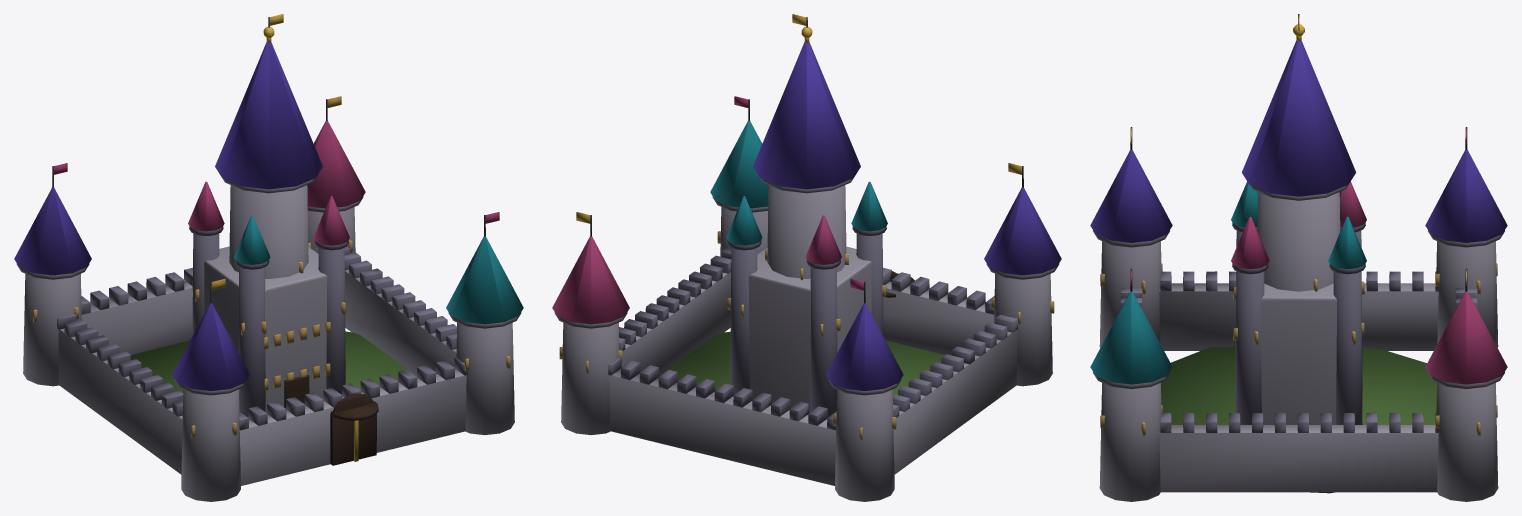
The model's file is castle.glb.
3 renders of one model, left to right at view 1: azimuth 30°, elevation 25°; view 2: azimuth 150°, elevation 25°; view 3: azimuth 270°, elevation 25°, orthographic. The views are drawn at different scales.
Visible parts, largest first — view 1: castle; view 2: castle; view 3: castle.
Part boxes in pixels (x1,y1,x2,y2): castle: (14, 14, 523, 501); castle: (552, 14, 1061, 501); castle: (1090, 14, 1507, 501).
Bounding box in the file's own units: 4.74 × 5.14 × 4.74.
